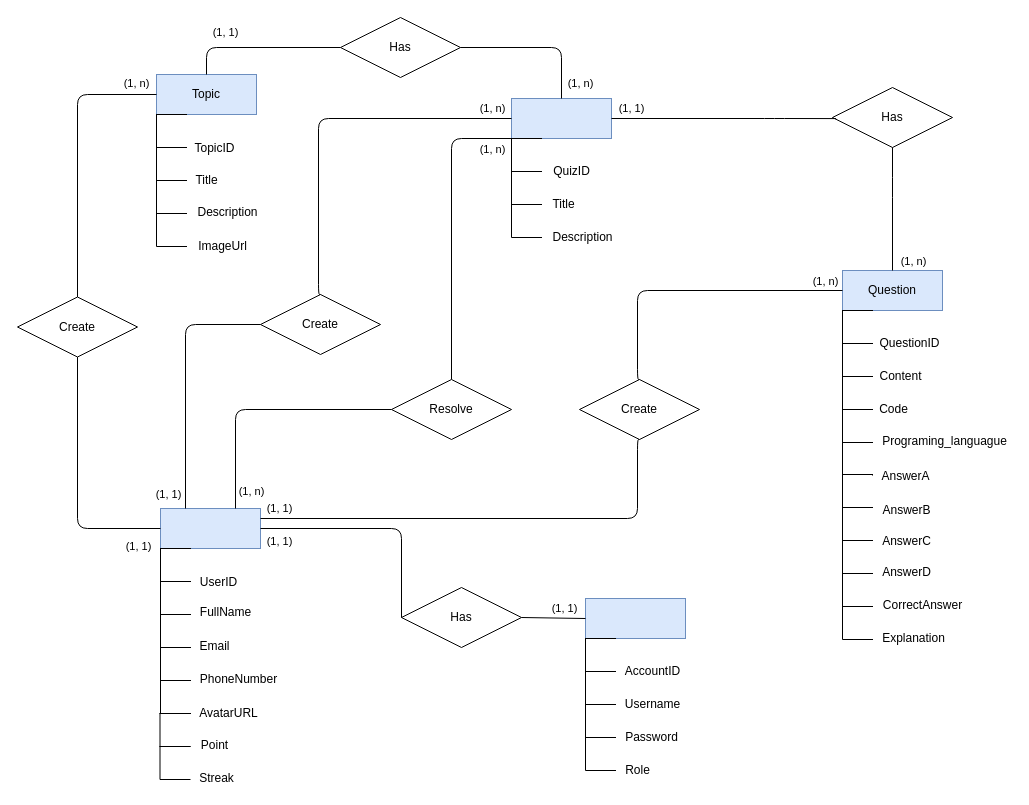
Some shapes in this 1029 by 805 pixel diagram are drawn without their labels. Here are the shapes that lost their labels. From the top down, the centre of each, then its label:
[561,118]: Quiz
[210,528]: User
[635,618]: Account
